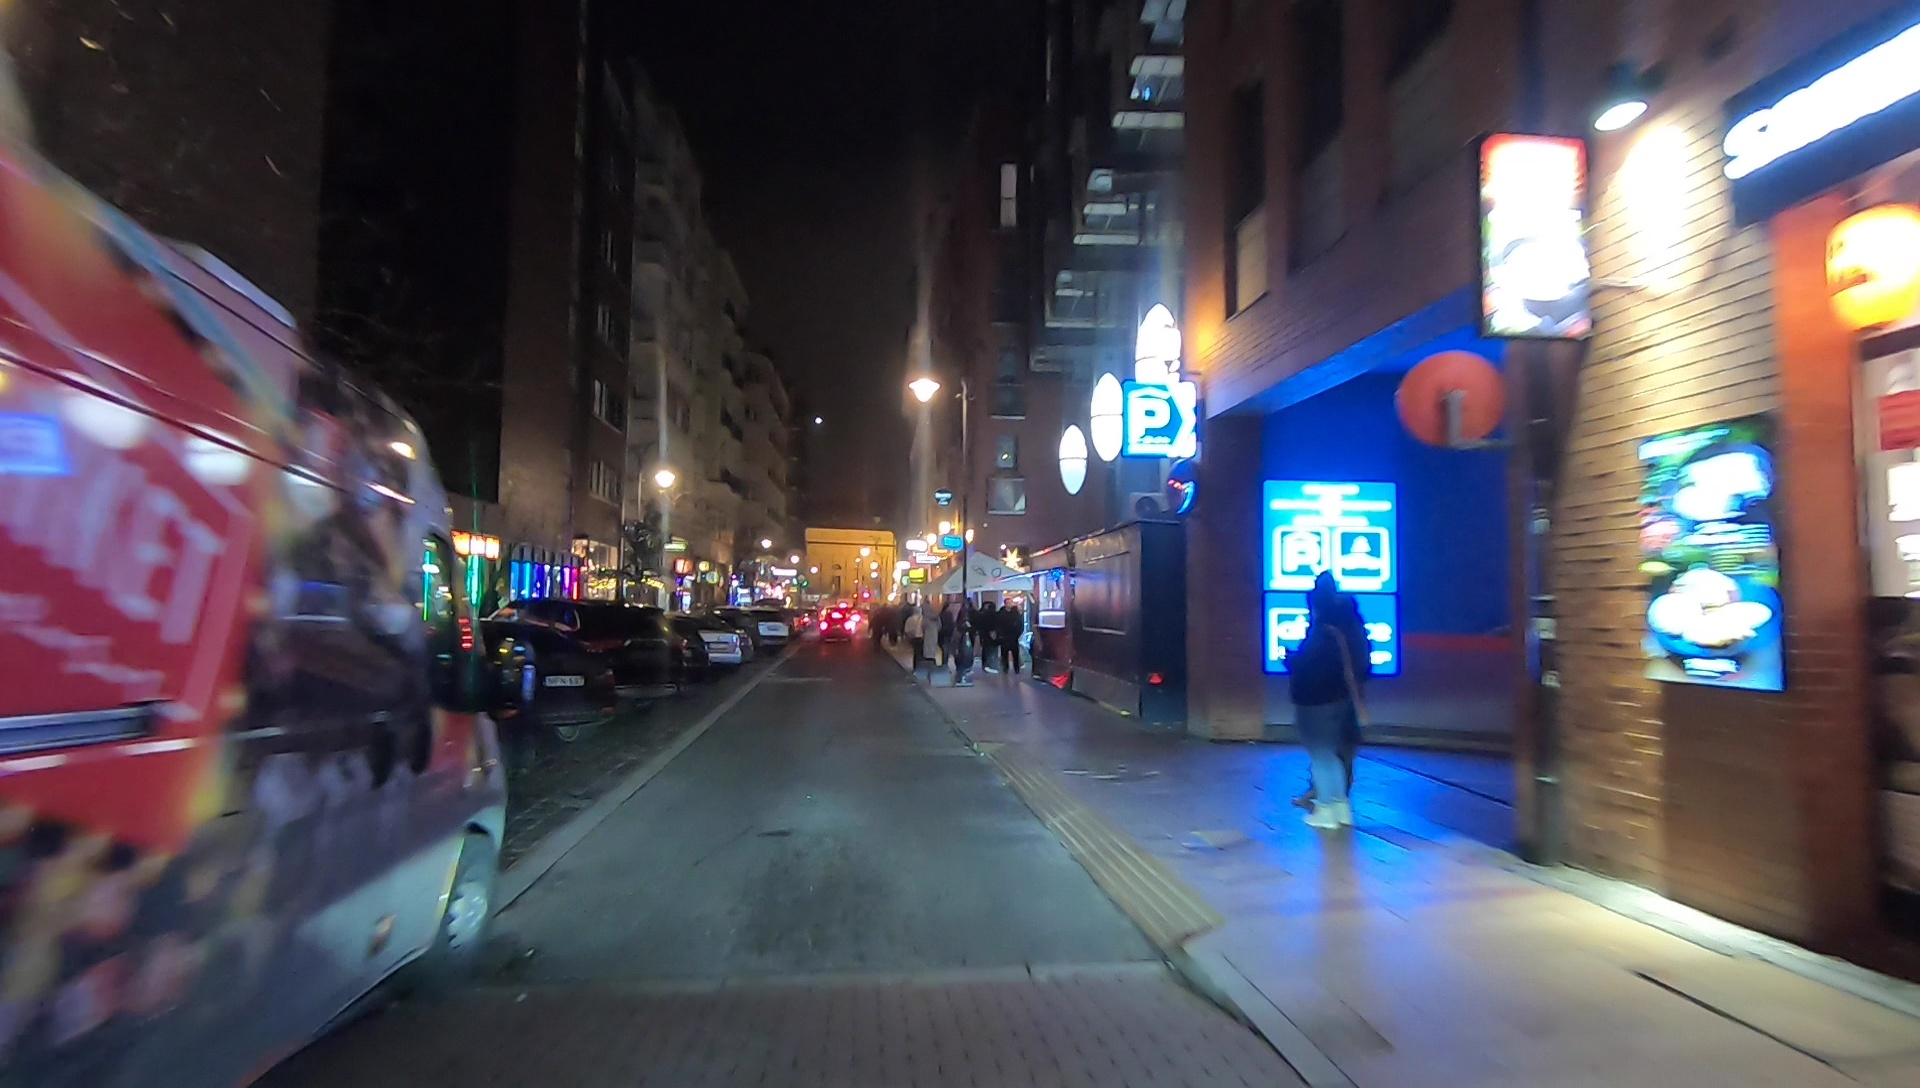person: (1293, 565, 1367, 837), (911, 598, 939, 678), (999, 594, 1026, 673), (980, 600, 998, 676), (934, 601, 951, 667)
